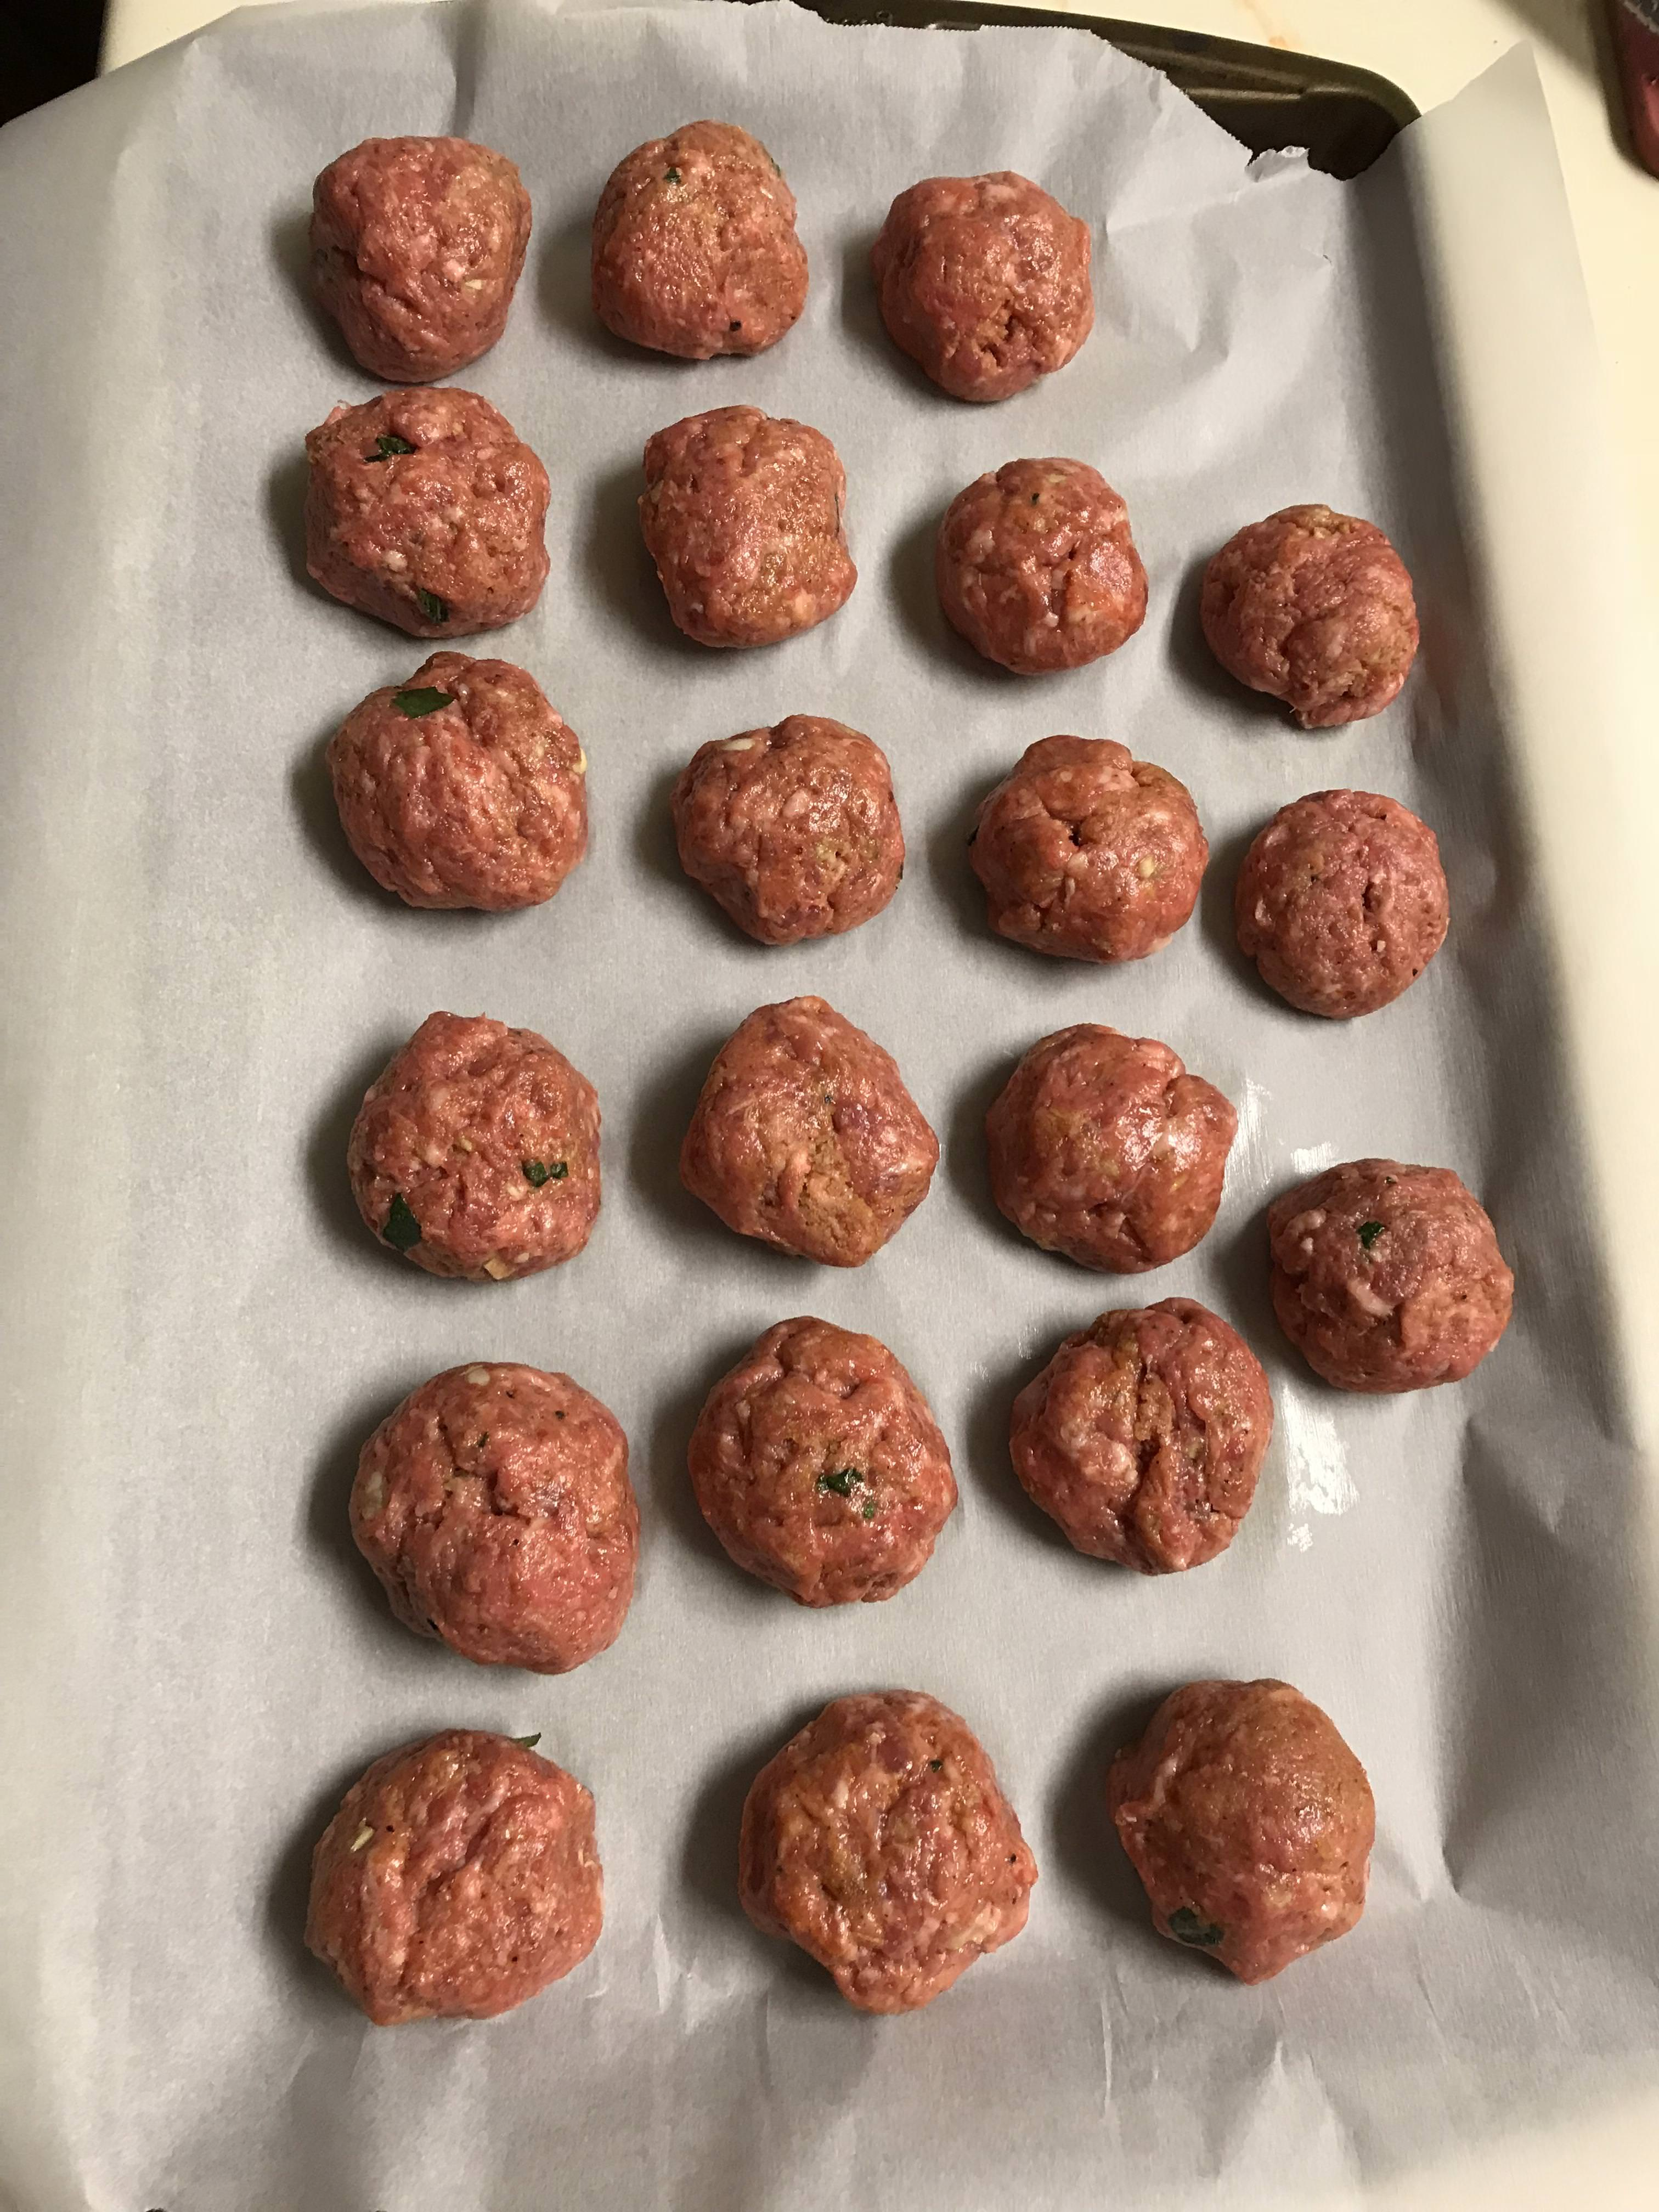meatballs: (296, 98, 1500, 2080), (669, 1329, 976, 1602)
